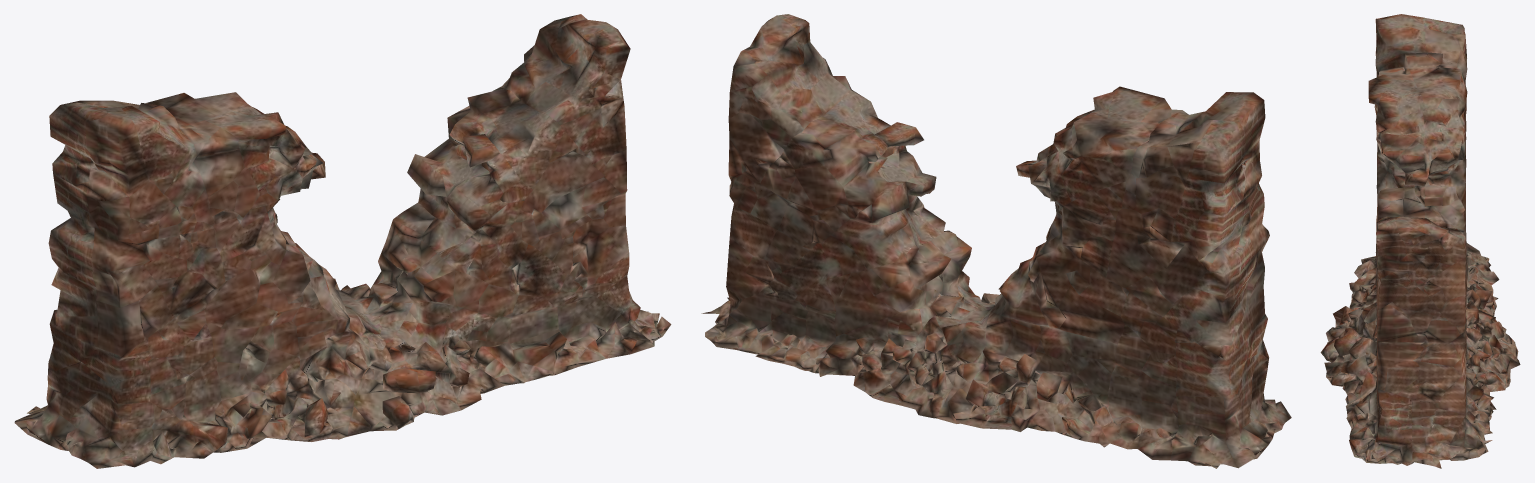
File: brick_wall_ruin_low.glb
3 views of the same model, side by side, from view 1: azimuth 30°, elevation 25°; view 2: azimuth 150°, elevation 25°; view 3: azimuth 270°, elevation 25° (orthographic). The views are drawn at different scales.
Bounding box in the file's own units: 1.88 × 0.9988 × 0.7175.
Materials: 1 (1 with a texture image).
